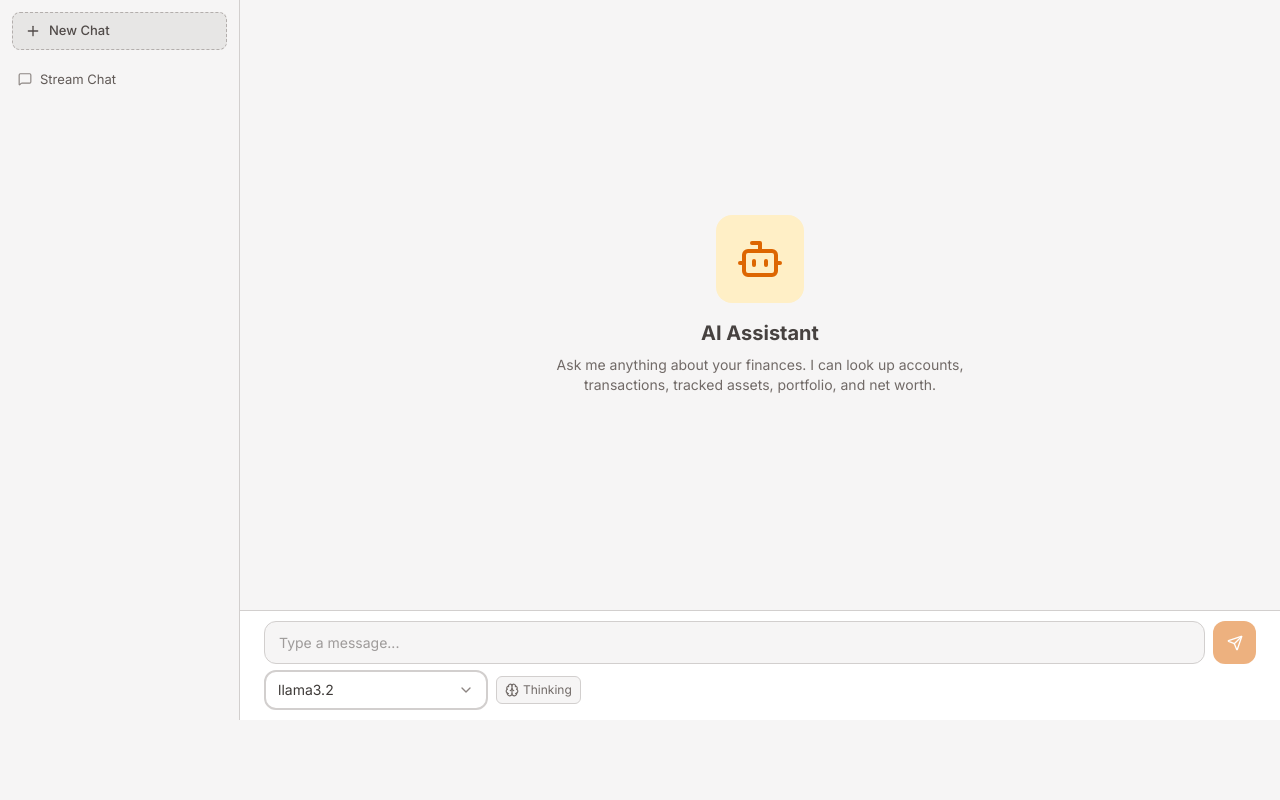
Test: ChatView coverage › displays llm-error event as assistant message
Click the text "Stream Chat" at [78, 78], box [40,70,116,86]
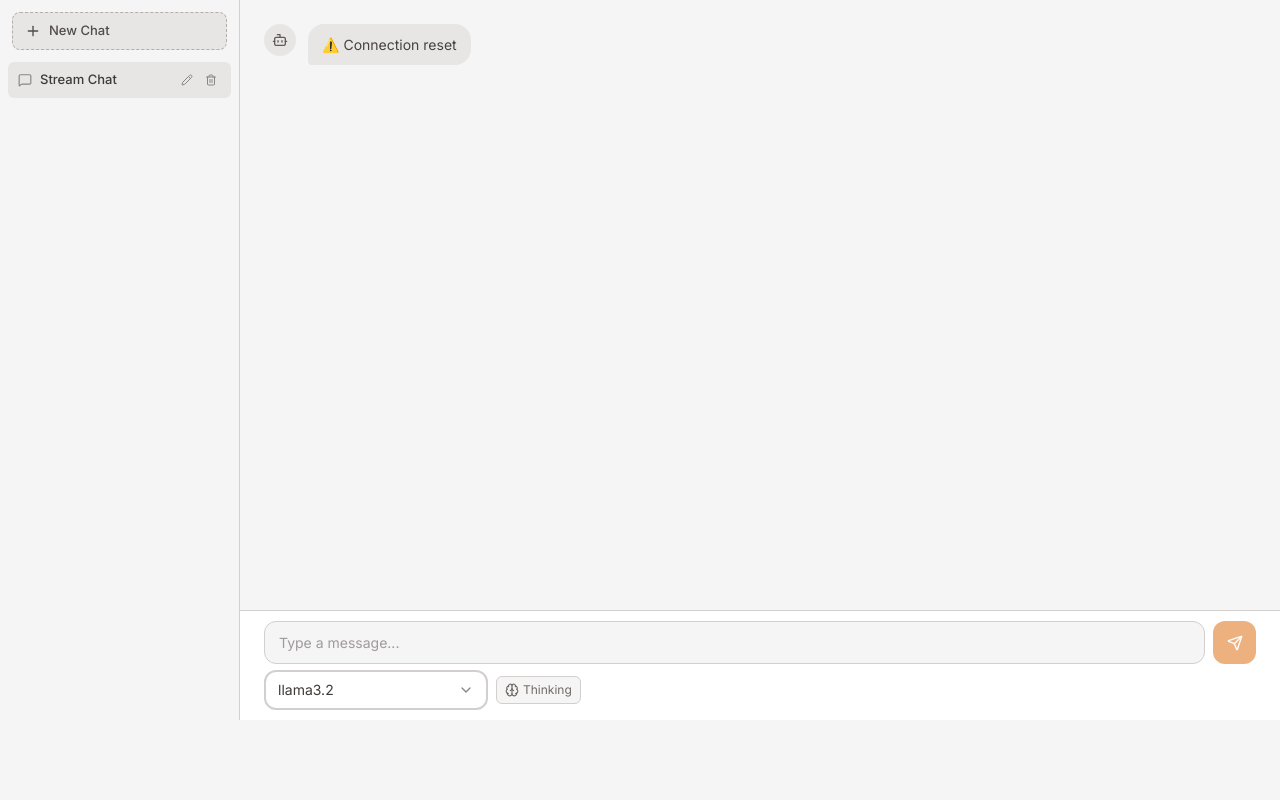
Check: the text "⚠️ Connection reset" is shown, box [322,34,457,55]
